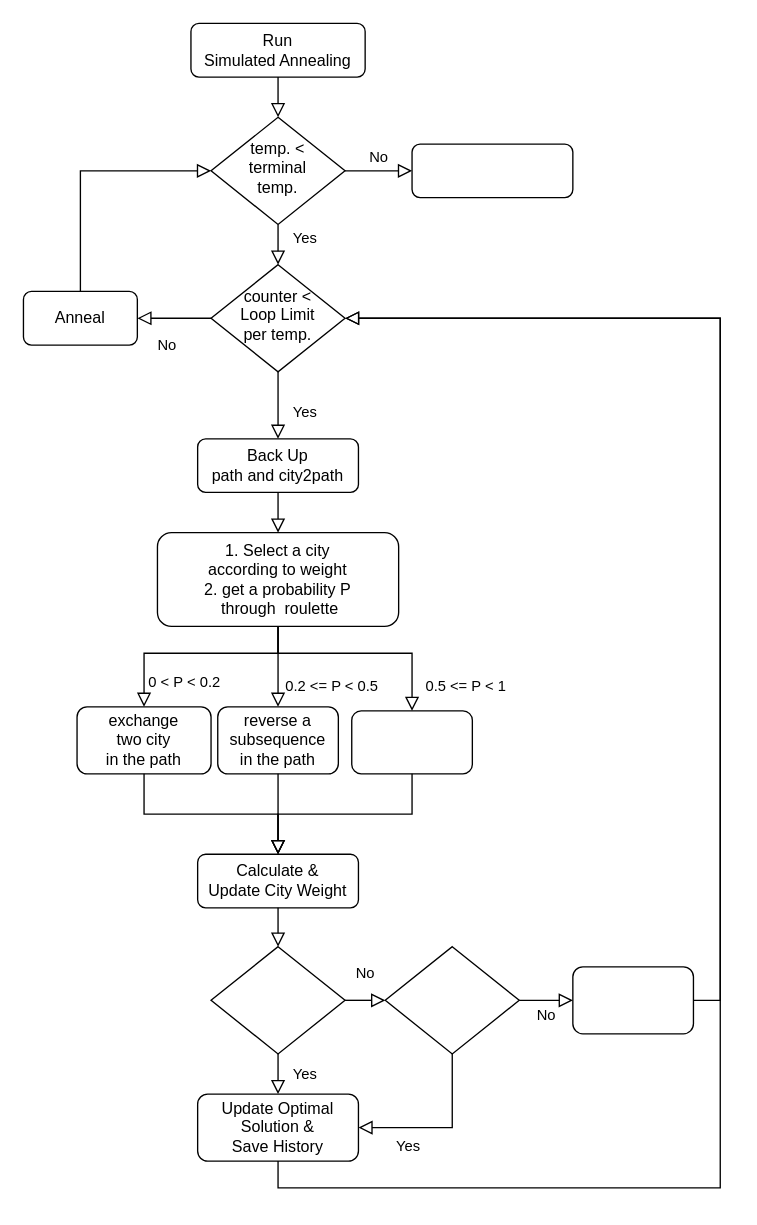
The diagram is 757 pixels wide and 1225 high, and some of its shapes have lost their labels. Each missing label, with the box of its shape:
Accept worse solution?: (384, 945, 519, 1054)
do 3-opt on the path: (350, 710, 472, 774)
End searching & report: (411, 143, 573, 198)
New better solution?: (210, 945, 345, 1054)
Recover with backup: (572, 965, 693, 1034)
